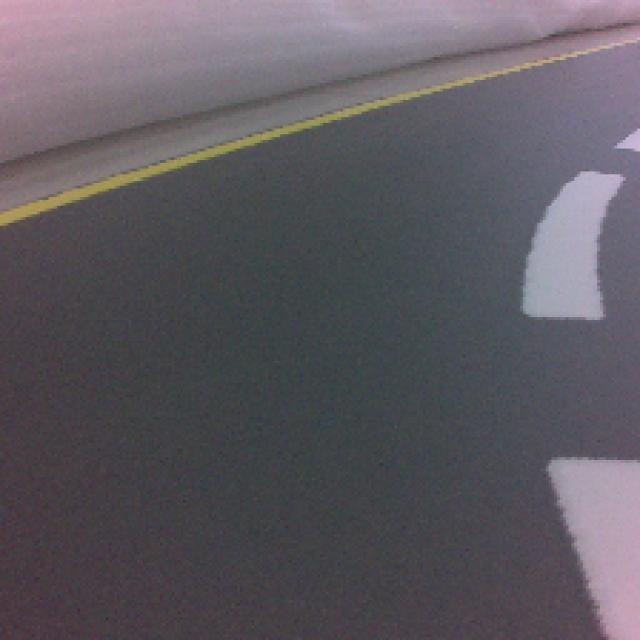Road: (3, 369, 609, 637)
